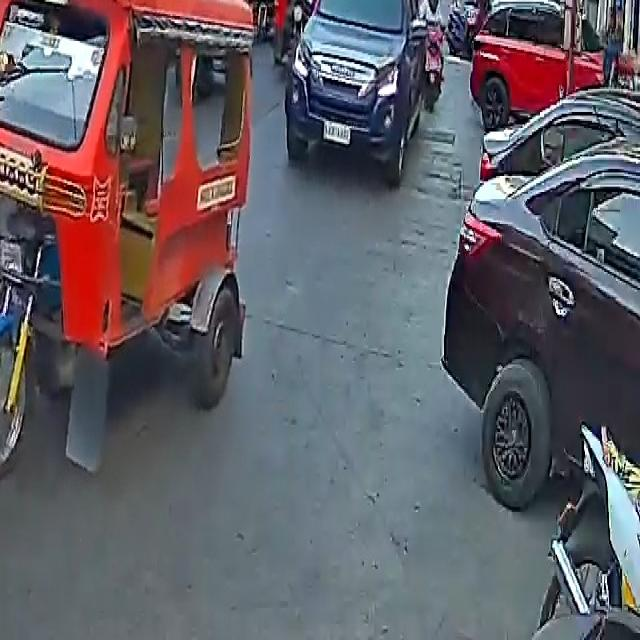car: (444, 88, 640, 528), (282, 0, 439, 165), (469, 0, 619, 130)
